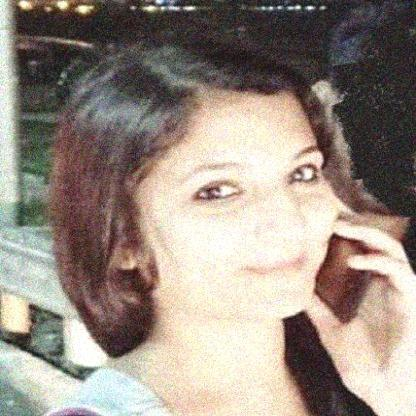without_mask: (166, 159, 346, 309)
